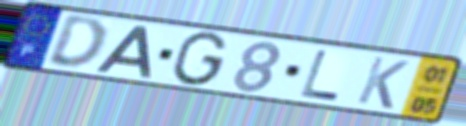8: (232, 39, 284, 94)
A: (93, 24, 154, 80)
D: (43, 15, 108, 72)
G: (168, 30, 231, 88)
K: (353, 54, 412, 112)
L: (297, 48, 341, 103)
